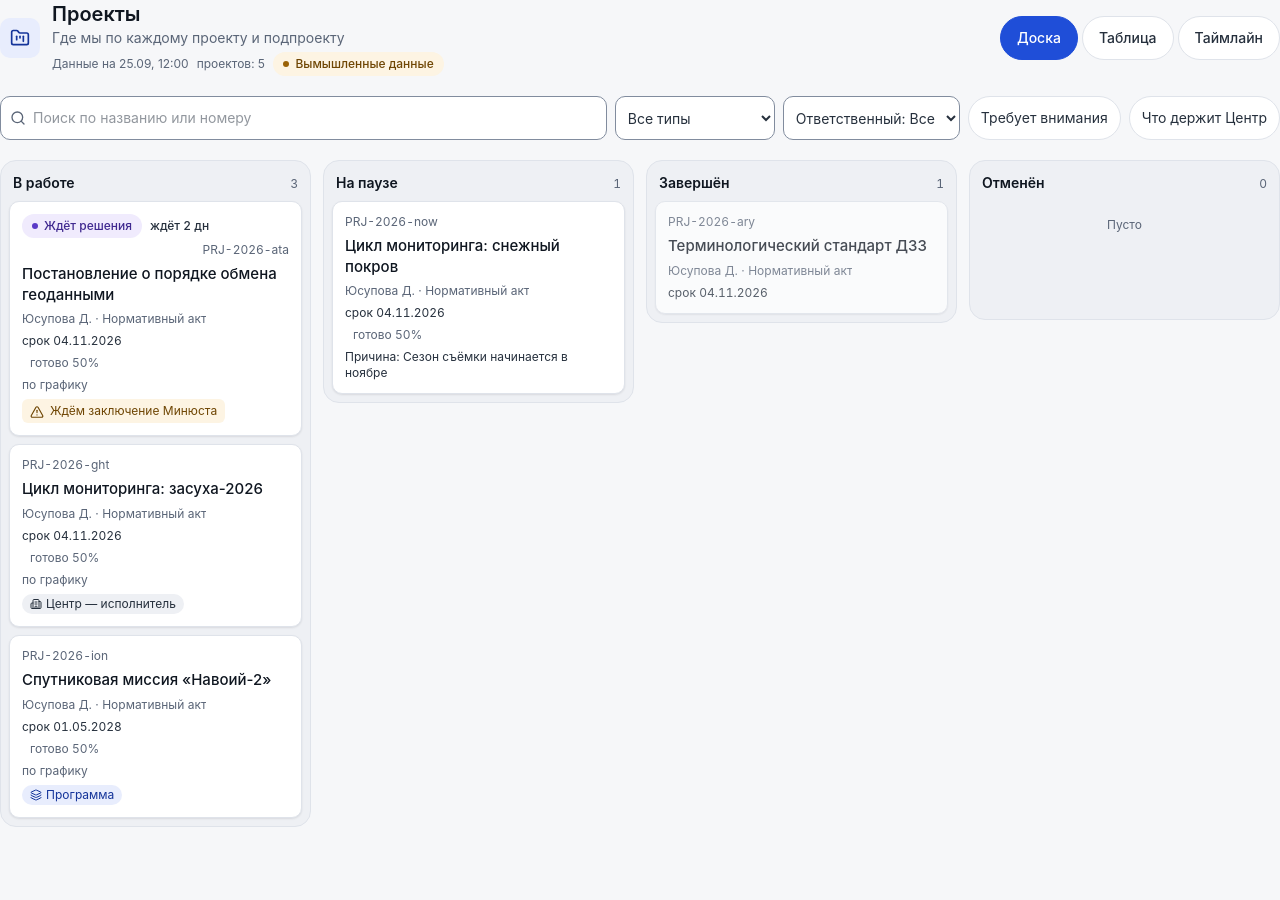
Scenario: Проекты › руководитель смотрит: без «Нового проекта» и без смены статуса
Check: the text "Вымышленные данные" is shown, box [273,52,444,76]
Click the button "Постановление о порядке" at [156, 319], box [10,202,301,435]
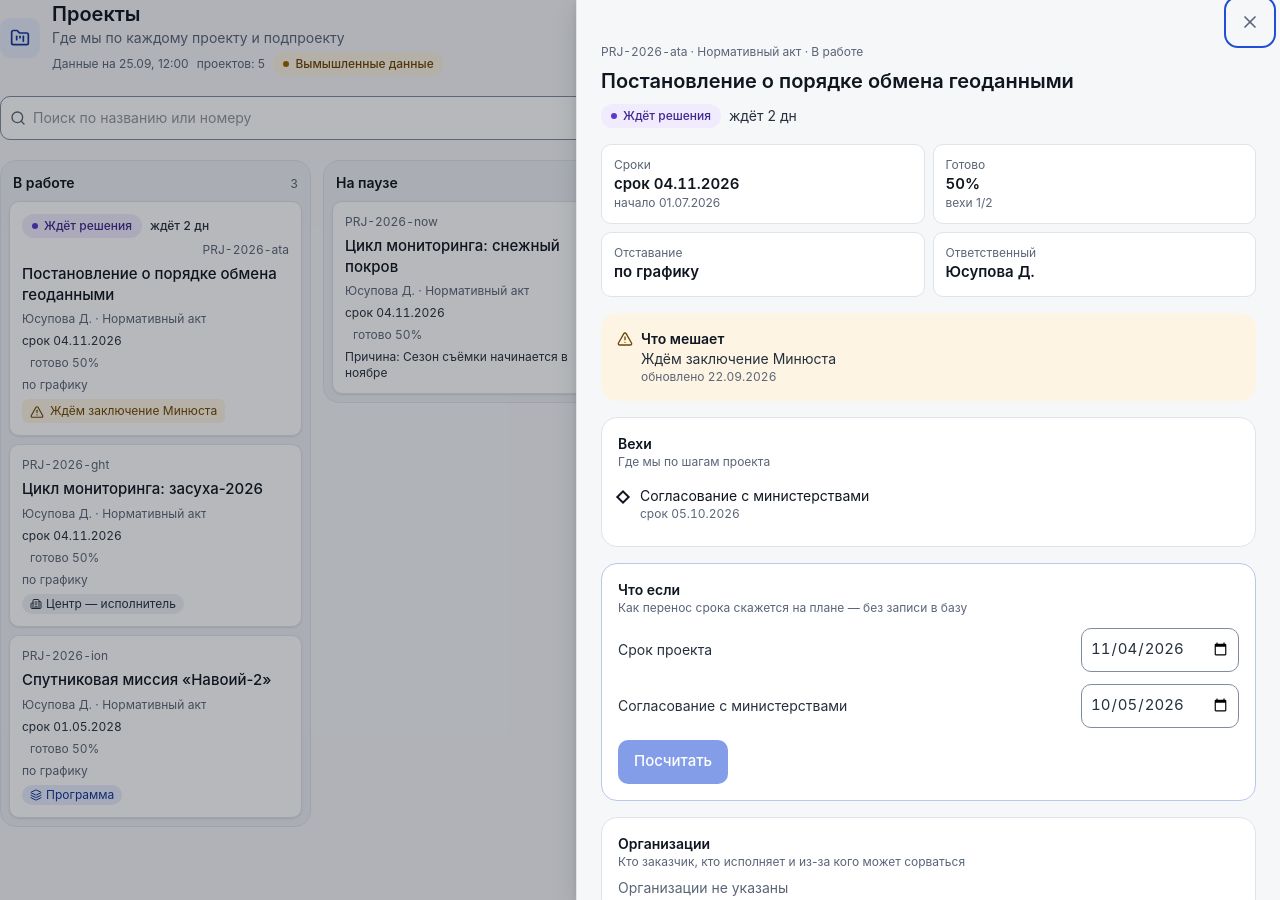
Check: the heading "Что если" is shown, box [618,580,680,598]
